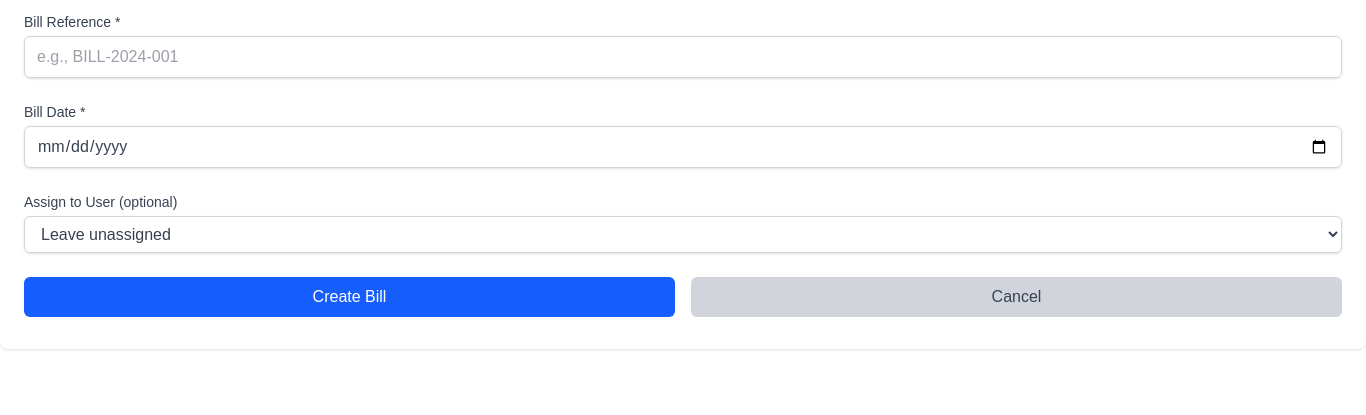
Test: BillForm › disables submit button while validating
Type "BILL-TEST-001" into the field with test id "bill-reference-input". click: (683, 57)
box: [24, 36, 1342, 78]
Wait 500 ms
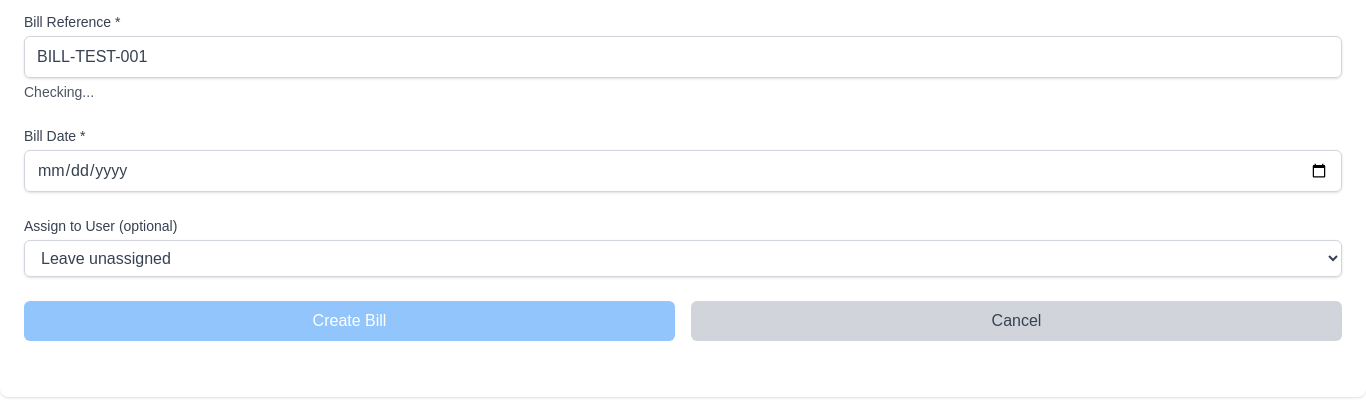
Result: the button with test id "submit-button" is disabled at [24, 301, 675, 341]
Result: the text "Checking..." is shown at [24, 84, 94, 100]
